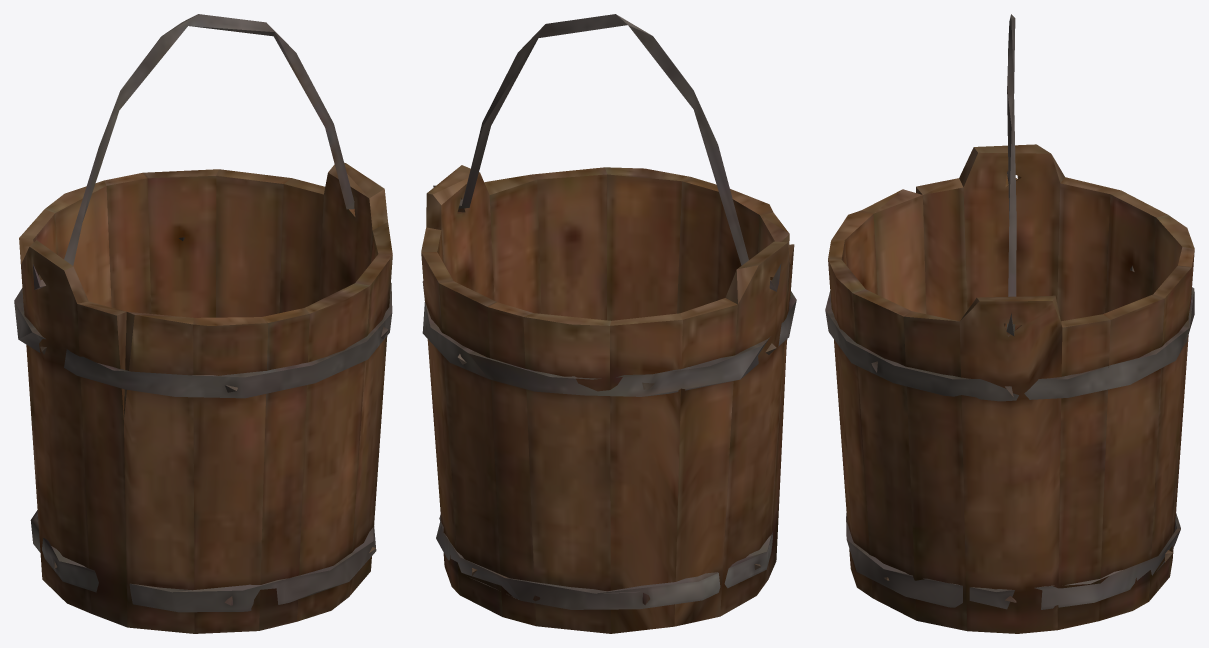
File: bucket.glb
3 renders of one model, left to right at view 1: azimuth 30°, elevation 25°; view 2: azimuth 150°, elevation 25°; view 3: azimuth 270°, elevation 25°, orthographic.
Visible parts, largest first — view 1: bucket; view 2: bucket; view 3: bucket.
Boxes of the visible parts, <box> form: bucket: <box>14,14,392,633</box>; bucket: <box>421,14,796,633</box>; bucket: <box>825,14,1194,633</box>.
Size of the model in its own units: 0.3637 by 0.5517 by 0.3403.
1 material, 1 textured.
